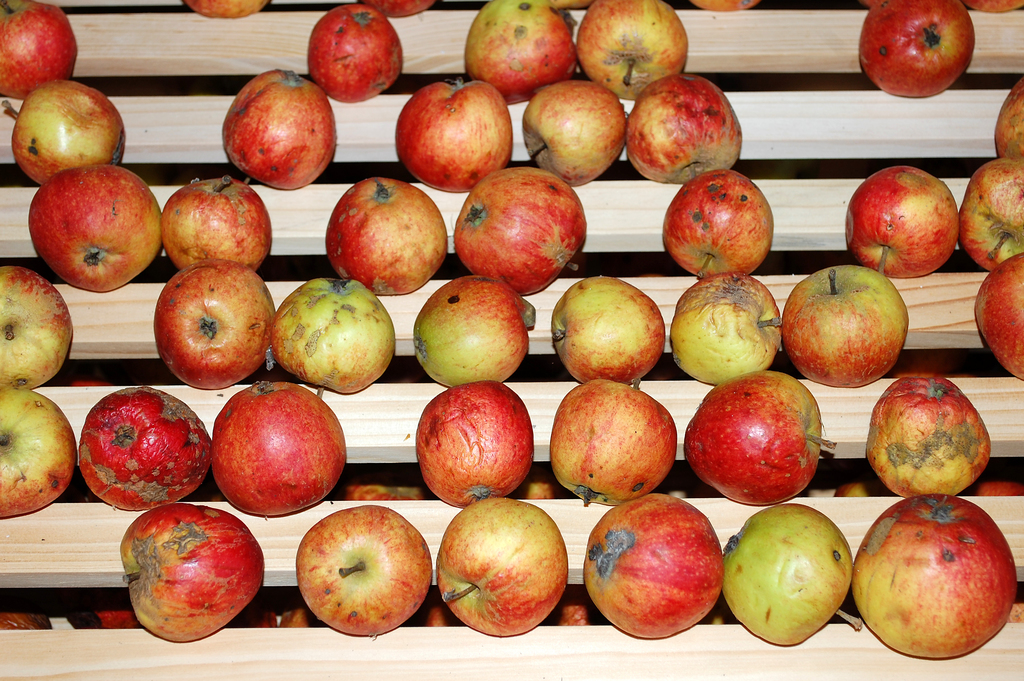Apple: (0, 0, 1023, 660)
